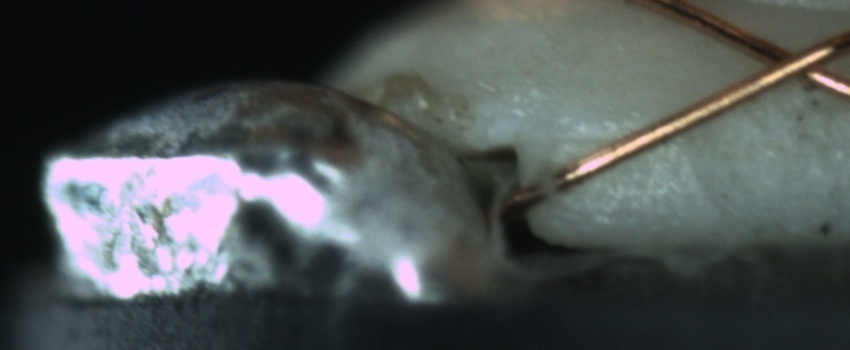CL: (737, 27, 846, 96)
DL: (554, 107, 651, 169)
